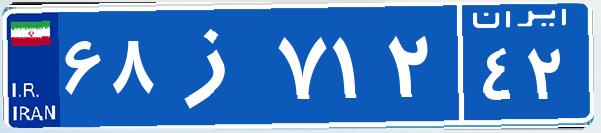1: (330, 28, 385, 110)
2: (385, 28, 445, 110), (525, 38, 570, 115)
4: (475, 38, 525, 113)
6: (57, 26, 110, 107)
7: (273, 28, 330, 110)
8: (110, 28, 158, 105)
ز: (158, 15, 273, 115)
